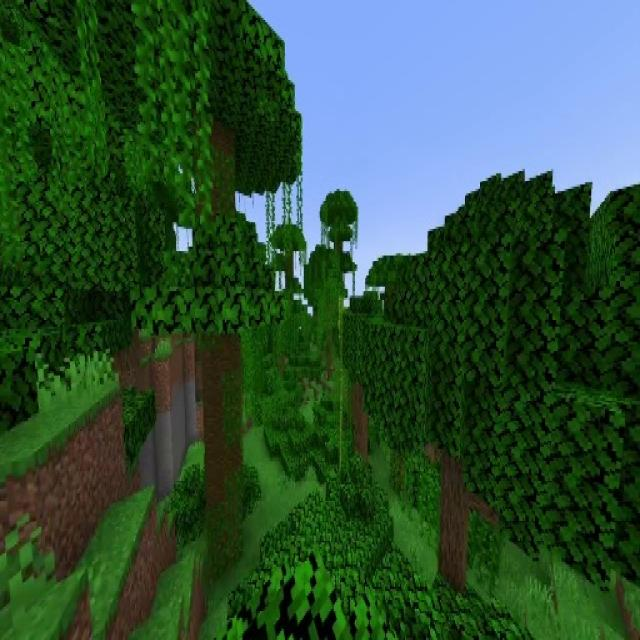jungle: (115, 2, 304, 567), (320, 188, 358, 327), (271, 223, 305, 314)
jungle_log: (203, 333, 245, 572)
oak: (371, 173, 578, 595)
oak_log: (440, 458, 465, 584), (354, 388, 368, 456)
